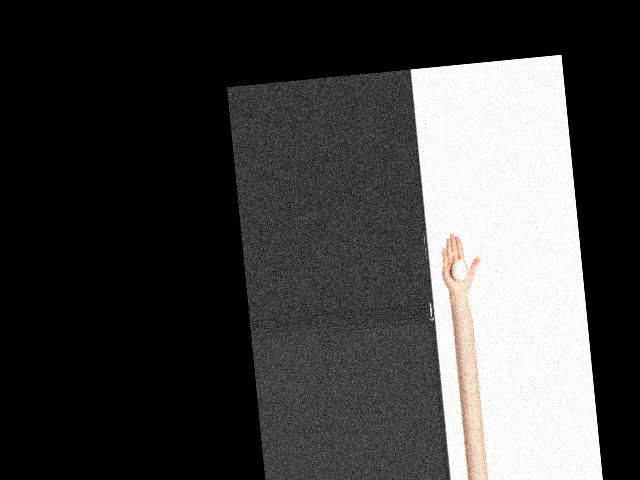egg: (450, 259, 467, 281)
